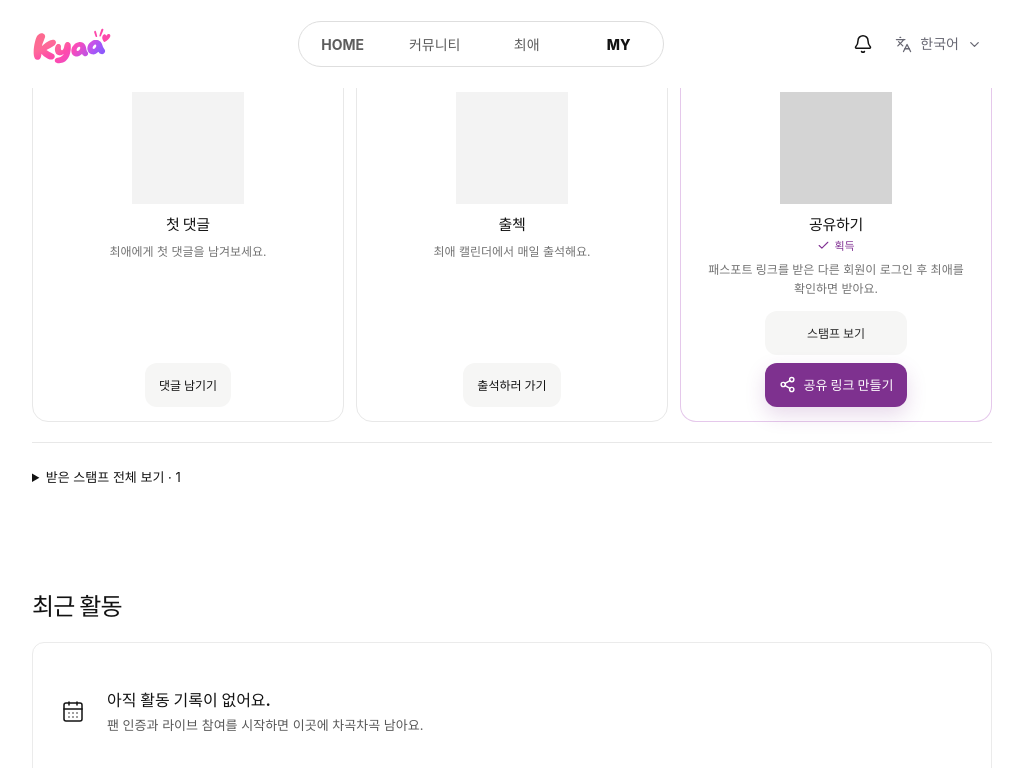
Scenario: passport fan screens › keeps Passport sharing available from detail after the share Stamp is earned
This screenshot has width=1024, height=768.
(page scrolled)
Expected: the button "스탬프 보기" is shown, [764, 311, 907, 355]
Click the button "공유 링크 만들기": (836,385) [764, 363, 907, 407]
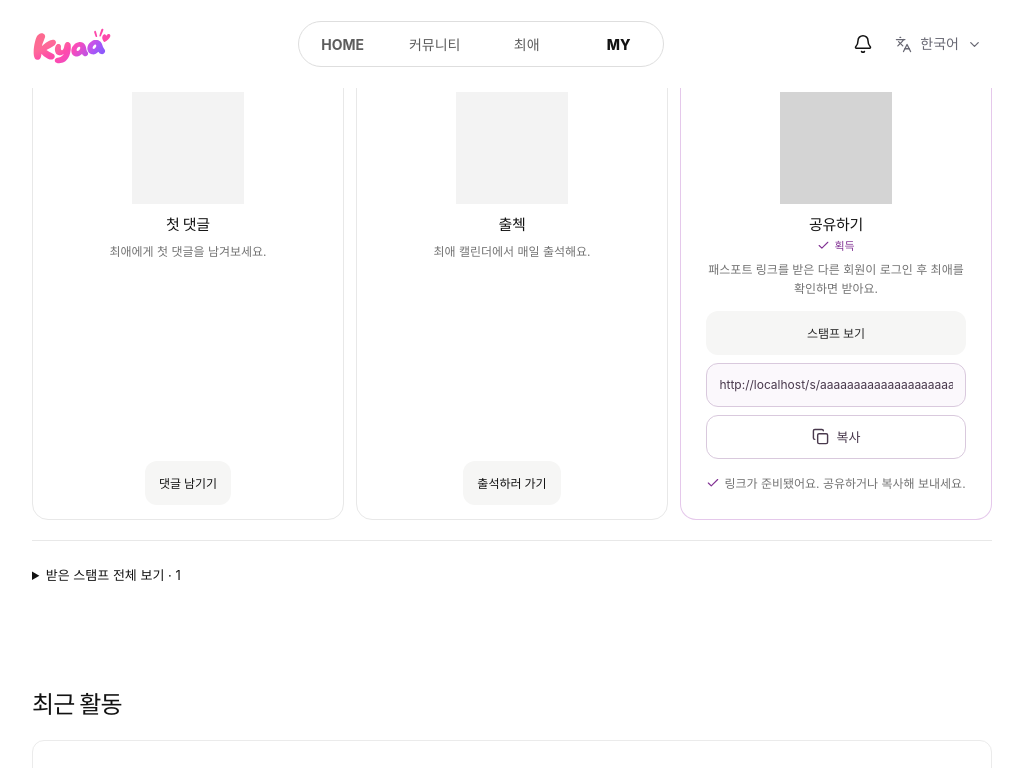
Now the field is shown, box [706, 363, 966, 407]
